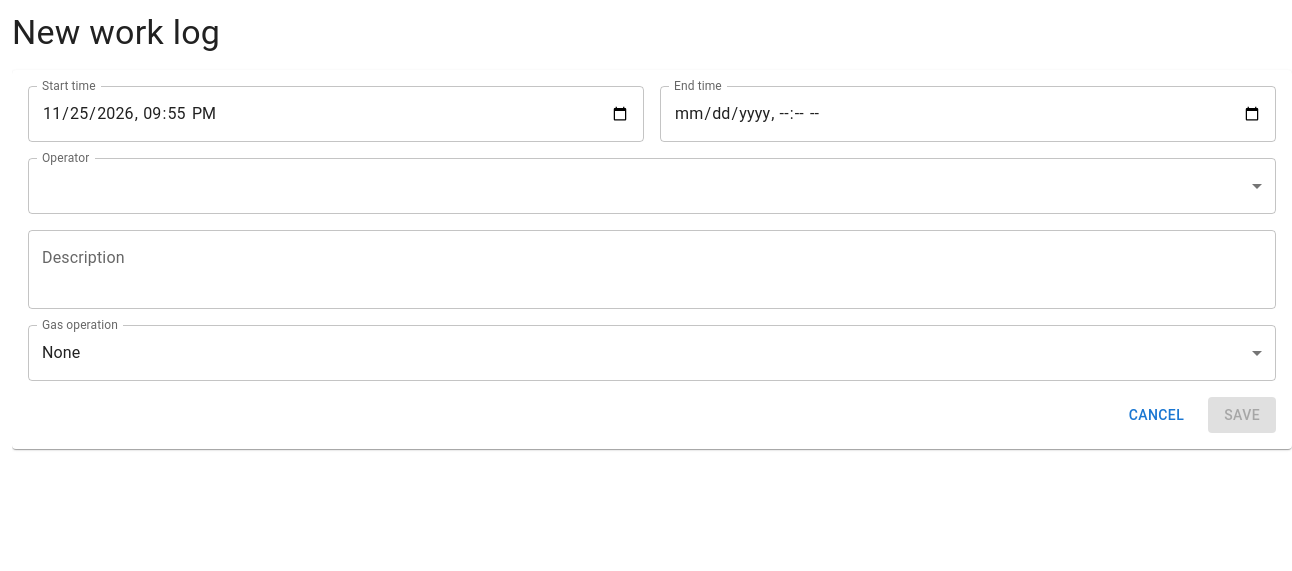
Test: WorkLogPage › blocks a gas operation when no refrigerator is installed
Expected: the heading "New work log" is shown, [12, 12, 220, 52]
Press the mouse on the dropdown named "Gas operation" at (61, 353), box [42, 344, 80, 362]
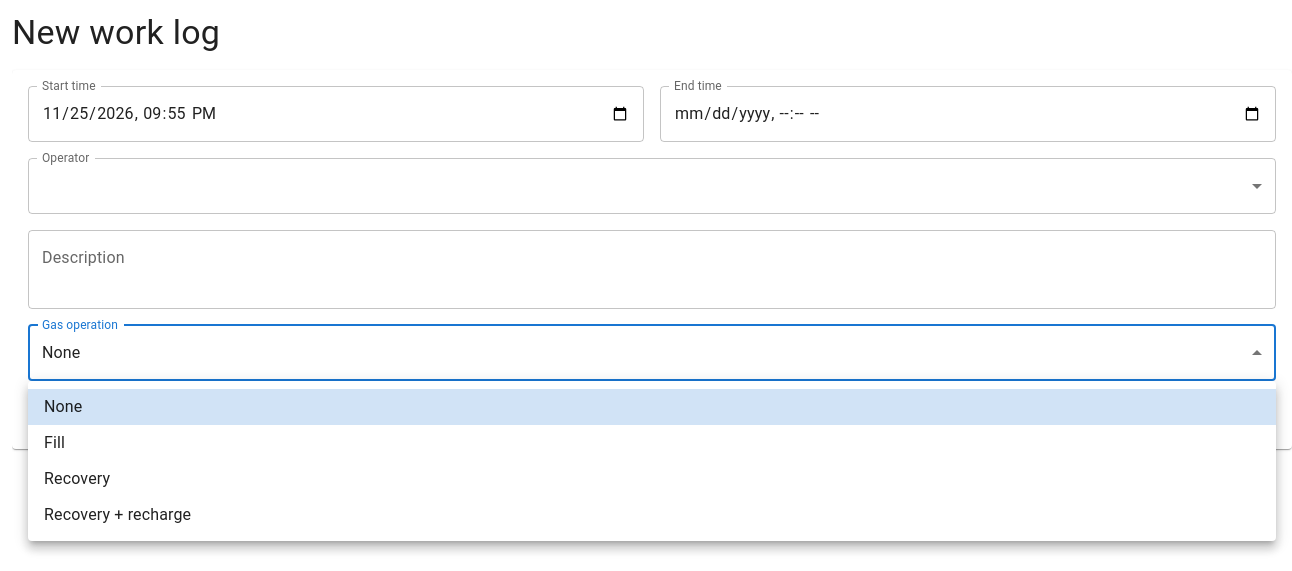
Click the option "Fill" at (55, 442), box [44, 433, 65, 452]
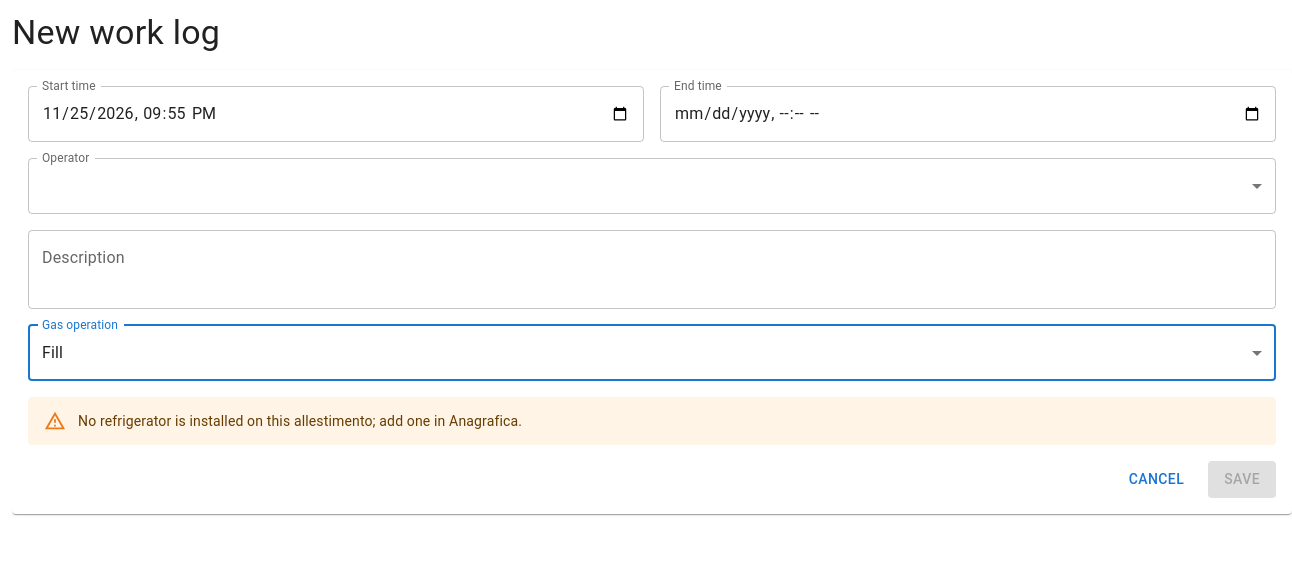
Expected: the button "Save" is disabled, [1208, 461, 1276, 498]
Result: the text "No refrigerator is installed" is shown at [78, 413, 522, 429]
